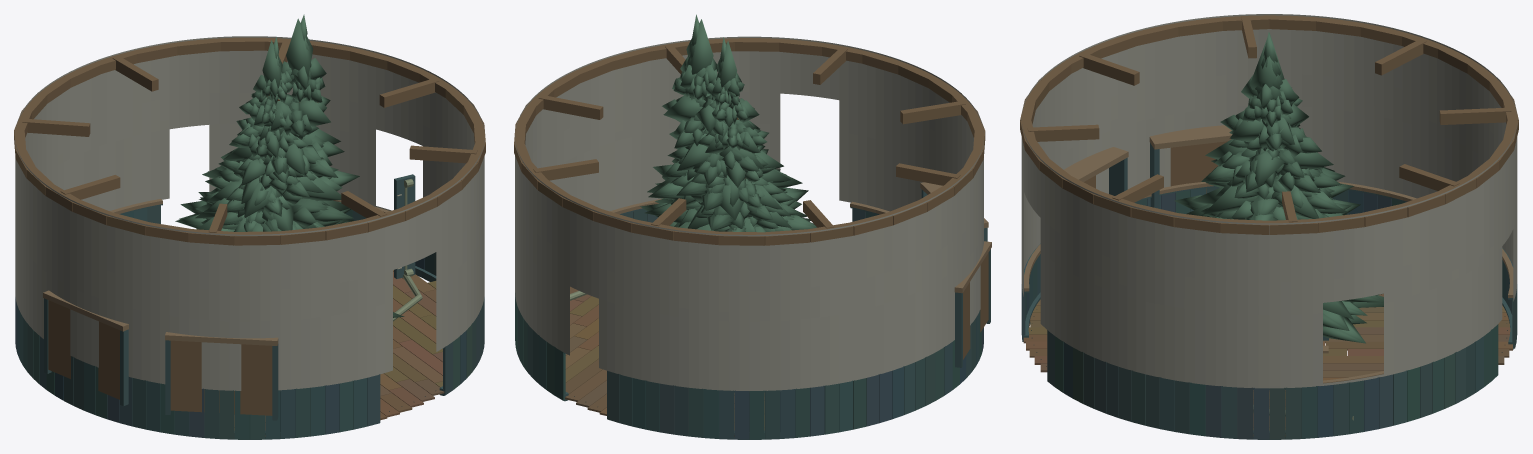
The model's file is working-coast.glb.
The picture shows the model from 3 angles, left to right: view 1: azimuth 30°, elevation 25°; view 2: azimuth 150°, elevation 25°; view 3: azimuth 270°, elevation 25°; orthographic projection. The views are drawn at different scales.
Visible parts, largest first — view 1: studyPlaster, studyTimber, studyFittings, forest3Model, forest3Near, forest1Near, forest0Near, forest1Model, forest0Model, forest1Far, forest3Far, forest0Far; view 2: studyPlaster, studyTimber, forest3Near, forest3Model, forest1Near, forest0Near, studyFittings, forest1Model, forest3Far, forest0Model, forest1Far, forest0Far; view 3: studyPlaster, studyTimber, forest3Near, studyFittings, forest3Model, forest0Near, forest3Far, forest0Model, forest0Far.
Boxes of the visible parts, x1,y1,x2,y2 form: studyPlaster: (15, 36, 484, 390); studyTimber: (14, 37, 485, 439); studyFittings: (43, 174, 436, 420); forest3Model: (197, 18, 349, 229); forest3Near: (180, 14, 404, 317); forest1Near: (196, 37, 307, 231); forest0Near: (175, 73, 353, 231); forest1Model: (195, 40, 316, 231); forest0Model: (178, 97, 324, 230); forest1Far: (200, 37, 308, 231); forest3Far: (181, 16, 403, 316); forest0Far: (177, 126, 352, 231); studyPlaster: (515, 36, 983, 390); studyTimber: (514, 38, 985, 439); forest3Near: (640, 15, 816, 231); forest3Model: (647, 19, 802, 231); forest1Near: (674, 37, 810, 231); forest0Near: (645, 99, 800, 232); studyFittings: (570, 182, 991, 406); forest1Model: (701, 40, 806, 231); forest3Far: (641, 16, 816, 227); forest0Model: (688, 97, 814, 229); forest1Far: (674, 37, 809, 231); forest0Far: (645, 98, 799, 232); studyPlaster: (1021, 14, 1517, 388); studyTimber: (1020, 15, 1518, 439); forest3Near: (1174, 32, 1381, 330); studyFittings: (1031, 125, 1507, 420); forest3Model: (1186, 32, 1342, 218); forest0Near: (1201, 128, 1383, 343); forest3Far: (1176, 34, 1360, 330); forest0Model: (1190, 124, 1383, 319); forest0Far: (1205, 126, 1383, 342).
Bounding box in the file's own units: 9.52 × 6.91 × 9.39.
